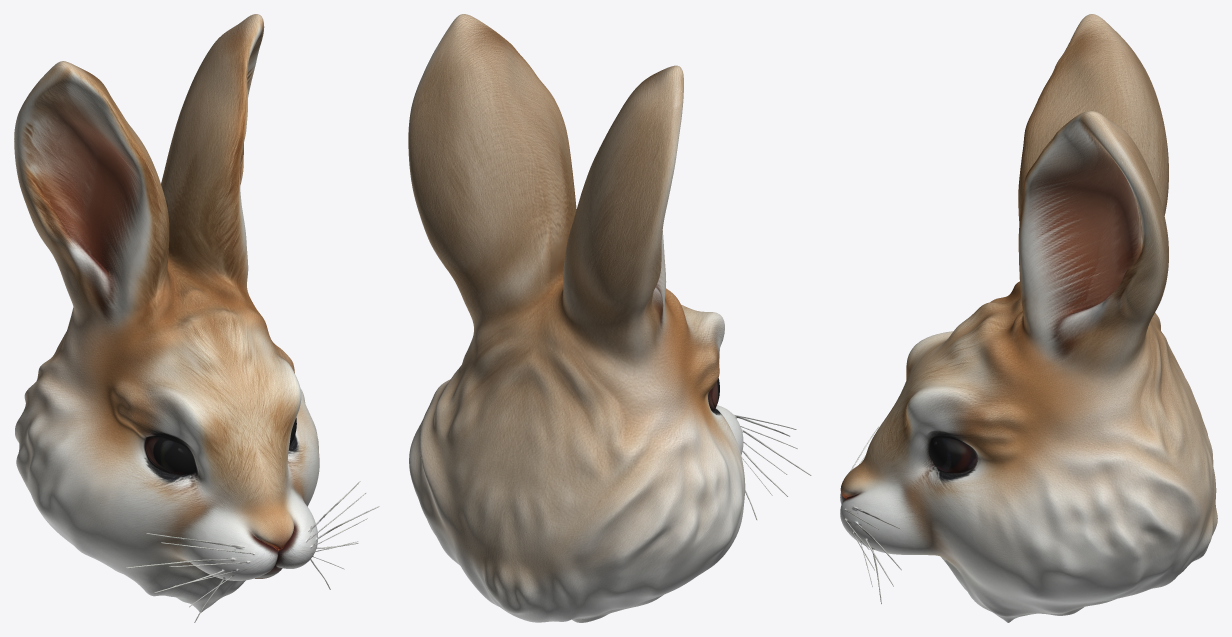
3 views of the same model, side by side, from view 1: azimuth 30°, elevation 25°; view 2: azimuth 150°, elevation 25°; view 3: azimuth 270°, elevation 25° (orthographic). The views are drawn at different scales.
Visible parts, largest first — view 1: mesh_node; view 2: mesh_node; view 3: mesh_node.
Boxes of the visible parts, x1,y1,x2,y2 form: mesh_node: (14,14,379,622); mesh_node: (408,14,811,622); mesh_node: (840,14,1217,622).
Size of the model in its own units: 0.9776 by 1.9 by 1.16.
Materials: 1 (1 with a texture image).
